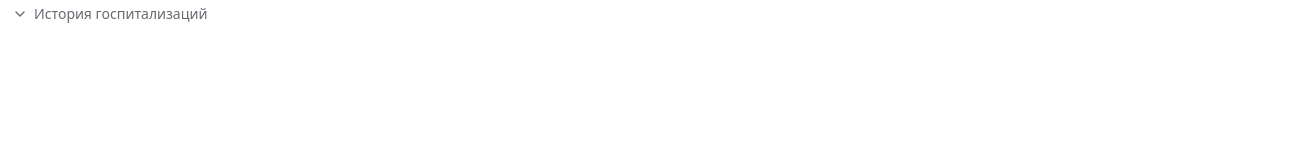
PreviousHospitalizations › closes again and hides the list
The width and height of the screenshot is (1304, 160).
Click the button "История госпитализаций": point(110, 14) [12,4,208,24]
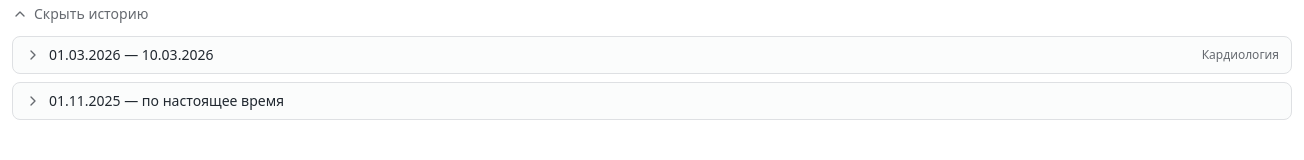
expect the text "01.03.2026 — 10.03.2026" is shown: met, box [49,45,213,65]
Click the button "Скрыть историю": point(80, 14) [12,4,148,24]
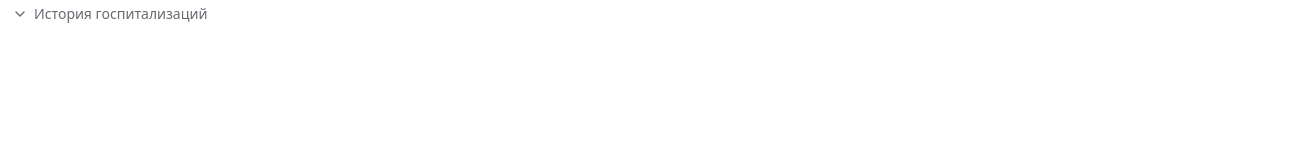
expect the button "01.03.2026 — 10.03.2026" is gone: met
